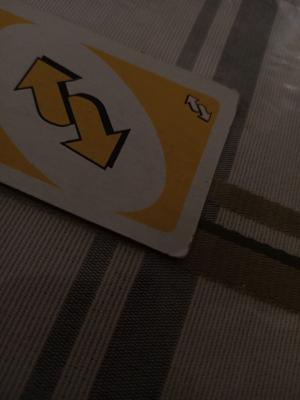yellow: (34, 49, 195, 203)
